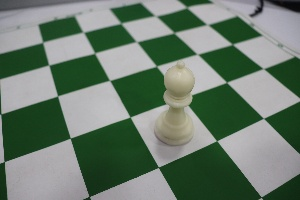white_bishop: (152, 53, 204, 151)
